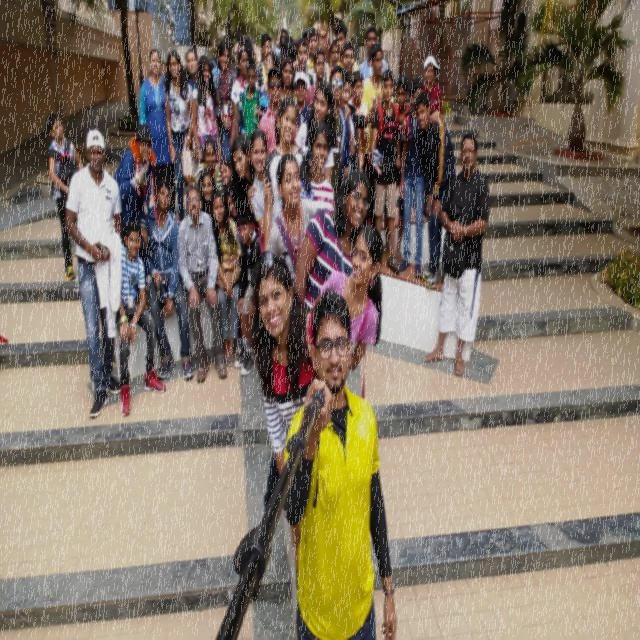pessoa: (281, 284, 400, 640), (258, 223, 386, 527), (249, 248, 315, 640), (421, 130, 492, 378), (64, 127, 124, 420), (292, 170, 370, 314), (140, 176, 194, 382), (354, 76, 412, 266), (397, 76, 448, 280), (115, 218, 167, 418), (178, 180, 228, 384), (110, 121, 158, 307), (413, 90, 455, 289), (367, 68, 402, 276), (266, 150, 319, 284), (138, 48, 177, 216), (46, 112, 84, 282), (264, 96, 304, 252), (362, 43, 394, 231), (210, 190, 242, 367), (292, 79, 338, 189), (234, 210, 264, 377), (164, 49, 192, 227), (258, 66, 298, 158), (191, 54, 222, 166), (327, 64, 351, 208), (422, 54, 442, 224), (299, 120, 335, 212), (230, 134, 260, 230), (230, 45, 260, 139), (197, 167, 225, 266), (216, 39, 238, 162), (238, 57, 268, 146), (249, 128, 273, 238), (347, 70, 369, 174), (254, 50, 280, 126), (192, 138, 225, 194), (339, 69, 357, 170), (346, 70, 369, 148), (224, 182, 250, 245), (358, 27, 388, 81), (305, 27, 332, 85), (304, 47, 326, 109), (334, 22, 359, 72), (294, 37, 317, 90), (292, 70, 312, 128), (272, 22, 298, 64), (255, 32, 272, 91), (280, 57, 298, 106), (230, 30, 256, 61), (185, 49, 201, 91), (316, 20, 330, 66), (218, 158, 234, 197), (342, 41, 354, 76), (209, 58, 221, 90), (329, 38, 340, 72), (302, 30, 310, 54), (0, 332, 9, 352)
